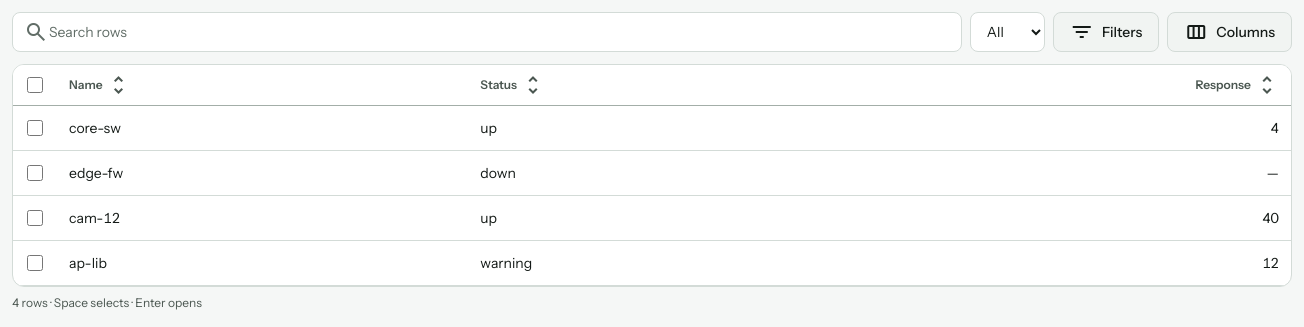
Test case: <DataTable> › selects every visible row from the header checkbox
In the search field labelled "Search rows": (487, 32) [12,12,962,52], type "e"
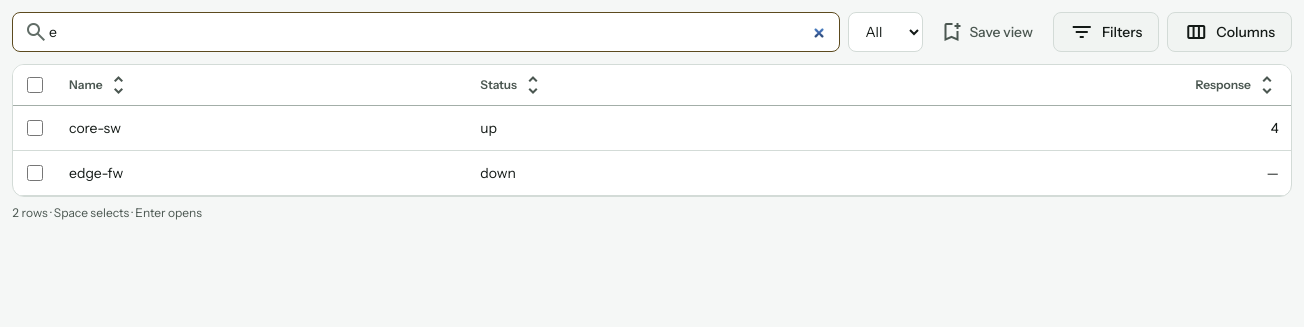
Click the checkbox named "Select all 2 rows": (35, 85) [27,77,43,93]
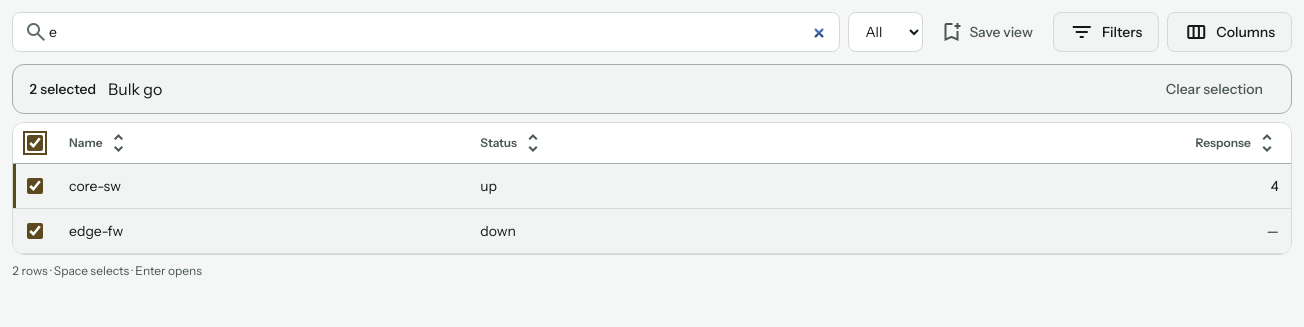
Expected: the element named "Bulk actions" shows "2 selected", [12,64,1292,114]
